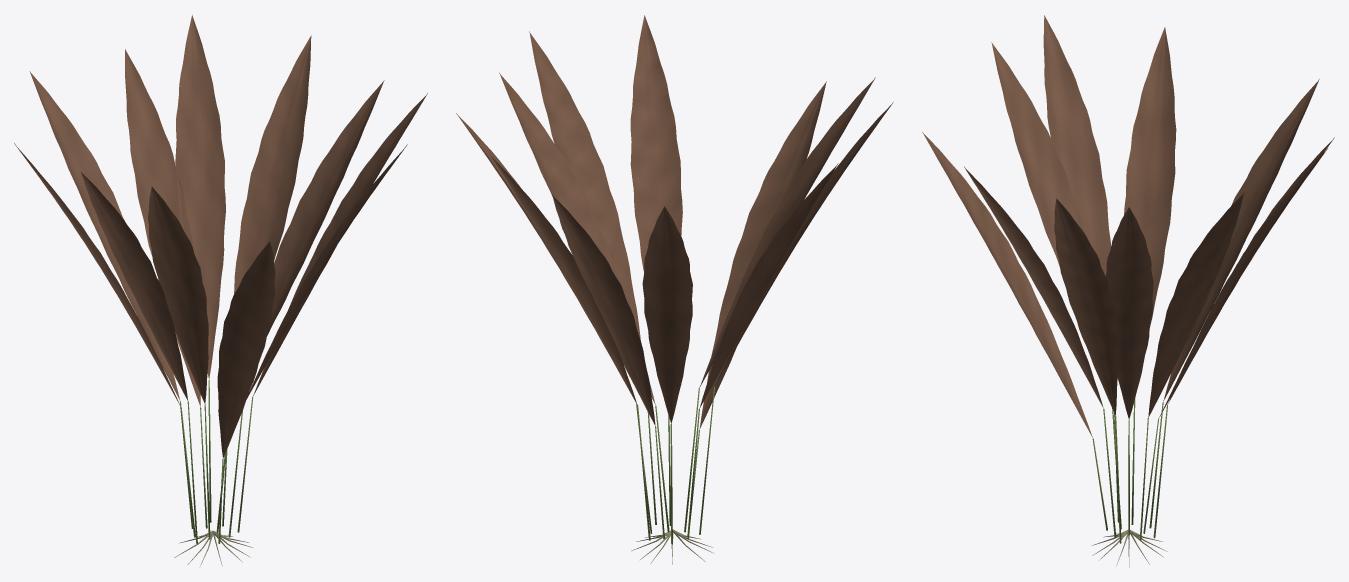
The model's file is redflame-desktop.glb.
The picture shows the model from 3 angles, left to right: view 1: azimuth 30°, elevation 25°; view 2: azimuth 150°, elevation 25°; view 3: azimuth 270°, elevation 25°; orthographic projection. The views are drawn at different scales.
Parts seen in each view (by area): view 1: blade, petiole, anchoring-root; view 2: blade, petiole; view 3: blade, petiole, anchoring-root.
Boxes of the visible parts, <box> form: blade: <box>14,15,427,458</box>; petiole: <box>180,380,253,543</box>; anchoring-root: <box>174,530,253,567</box>; blade: <box>456,15,893,428</box>; petiole: <box>636,386,714,543</box>; blade: <box>922,15,1334,438</box>; petiole: <box>1092,398,1167,543</box>; anchoring-root: <box>1092,530,1167,567</box>.
Size of the model in its own units: 0.7536 by 0.9123 by 0.7552.
